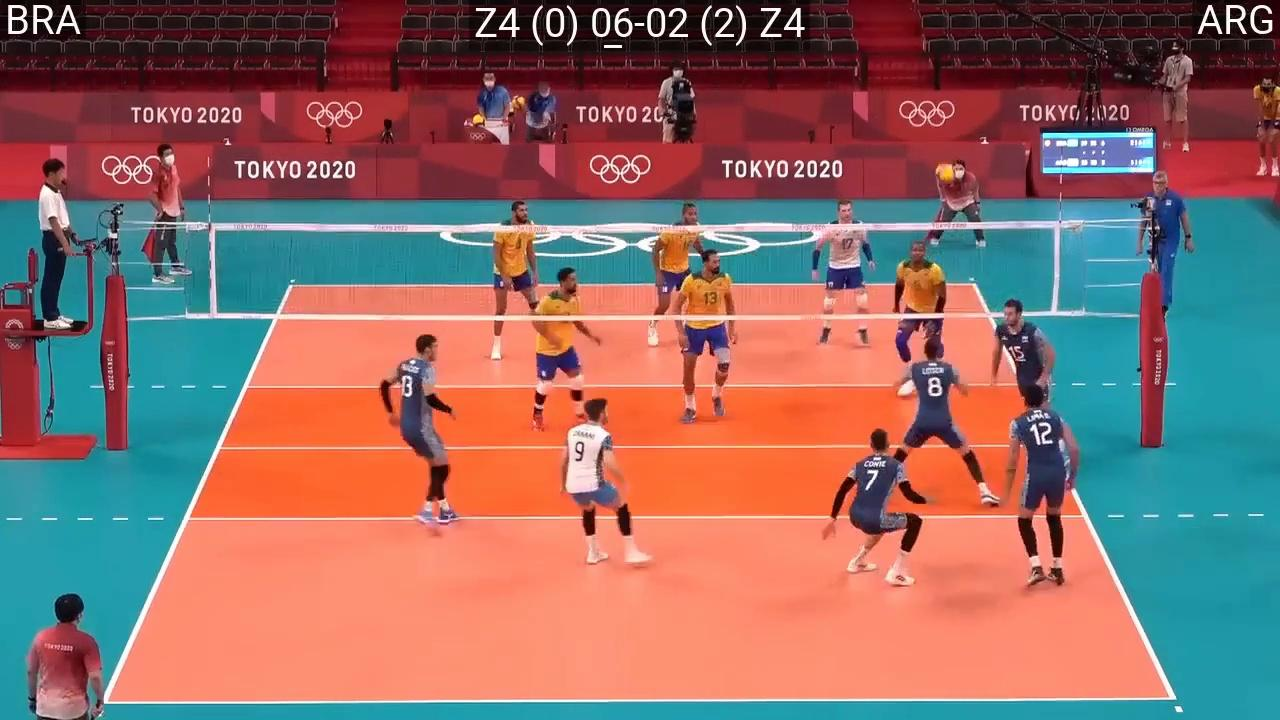ball: (935, 163, 955, 186)
